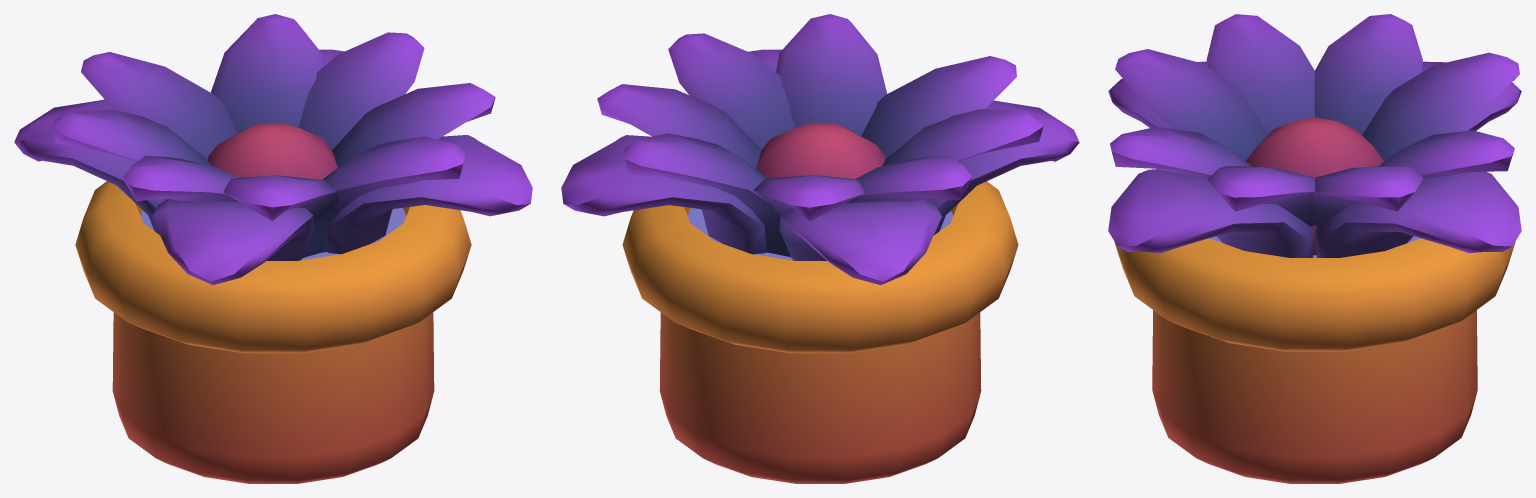
Rendered from Flower05.fbx.
The picture shows the model from 3 angles, left to right: view 1: azimuth 30°, elevation 25°; view 2: azimuth 150°, elevation 25°; view 3: azimuth 270°, elevation 25°; orthographic projection.
Parts seen in each view (by area): view 1: Flower05; view 2: Flower05; view 3: Flower05.
Part boxes in pixels (<box>): Flower05: <box>14,14,532,483</box>; Flower05: <box>561,14,1079,483</box>; Flower05: <box>1108,14,1521,483</box>.
Size of the model in its own units: 61.7 by 52.42 by 59.92.
